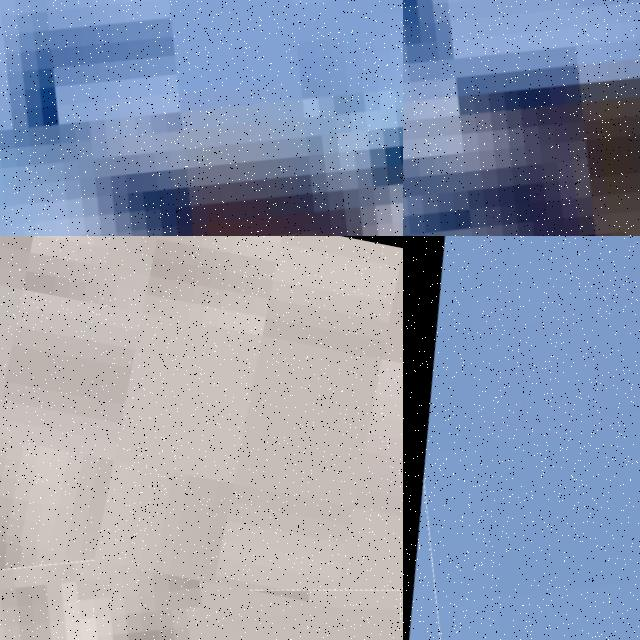drone: (403, 236, 640, 640), (0, 0, 403, 236), (403, 0, 640, 236), (0, 502, 403, 640)
